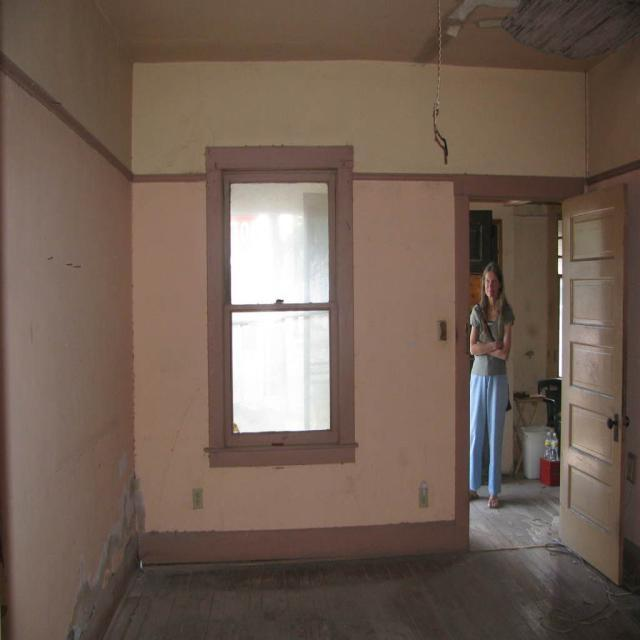door: (457, 177, 628, 588)
